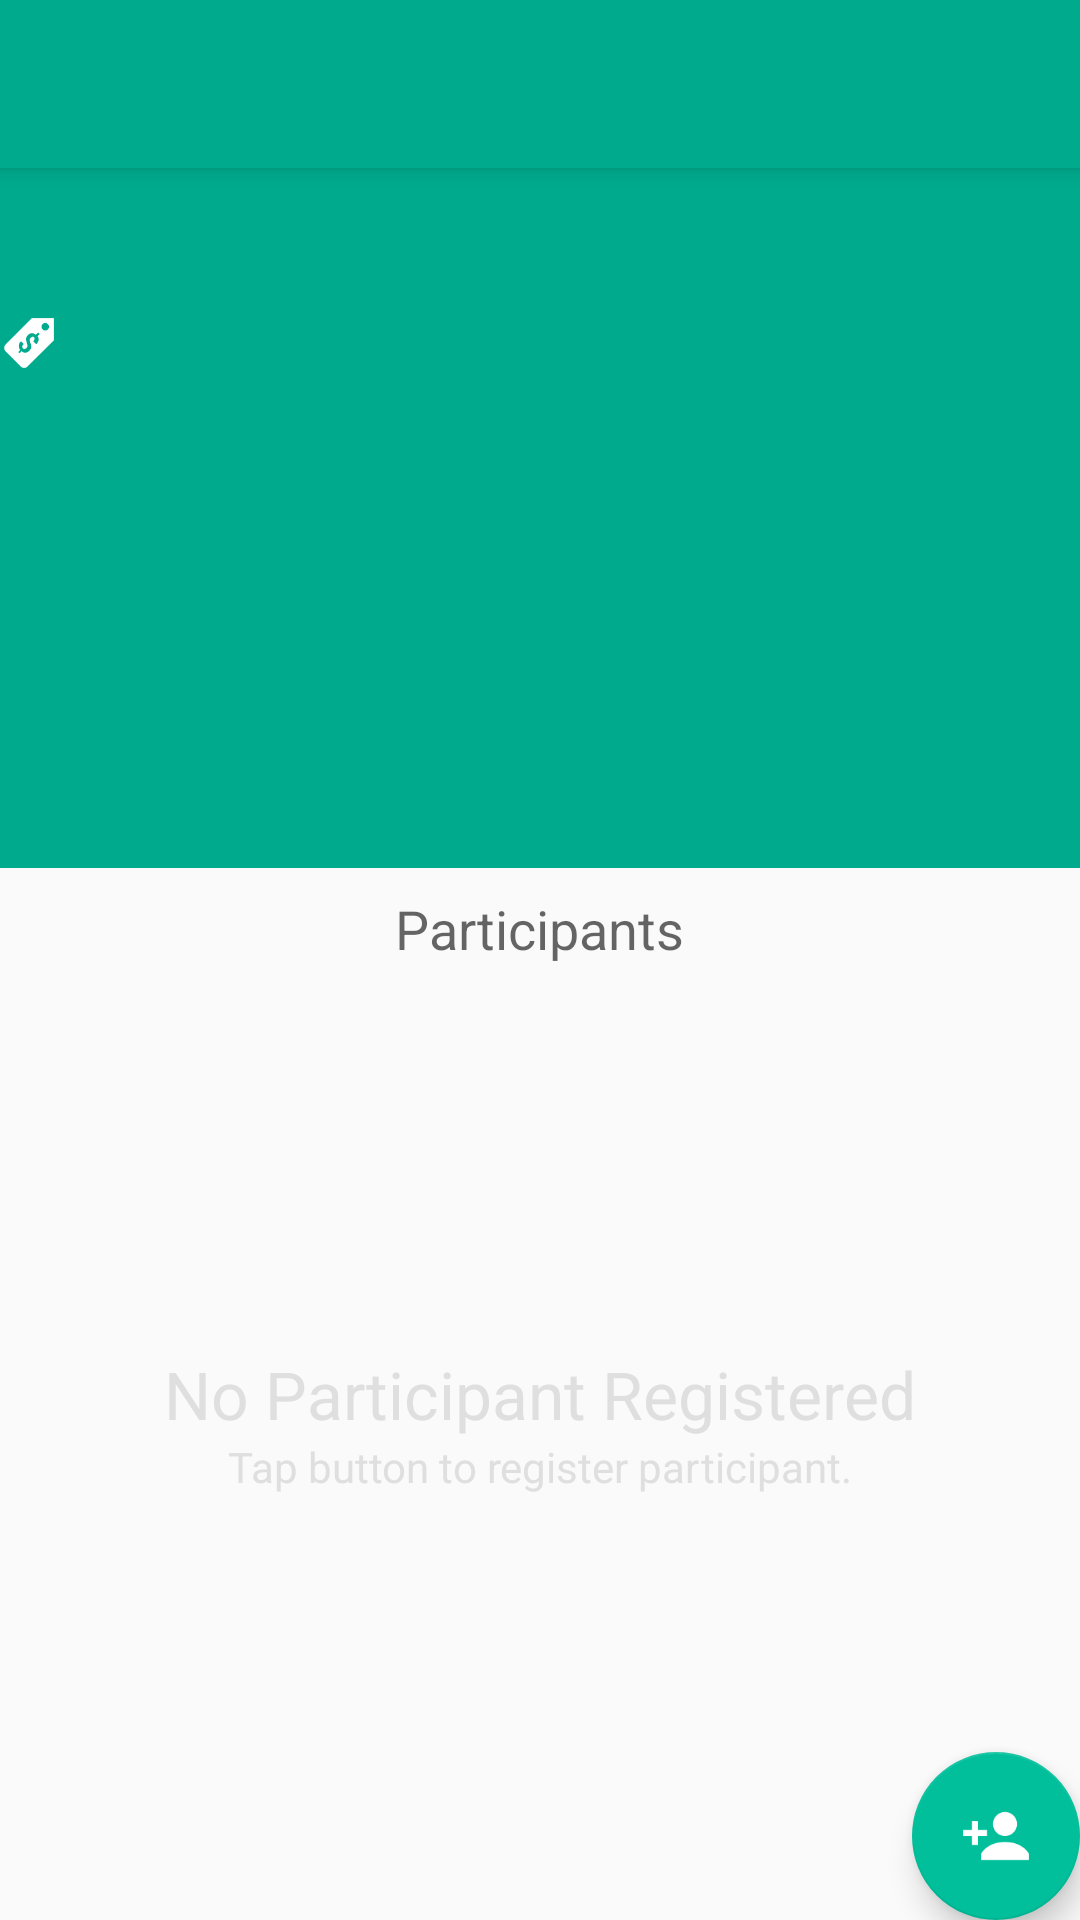

Icon bounding boxes for this 1080×1920 phone screenshot, format (x1, y1, x2, y2):
add user male: (912, 1752, 1080, 1920)
pricing: (4, 318, 54, 368)
